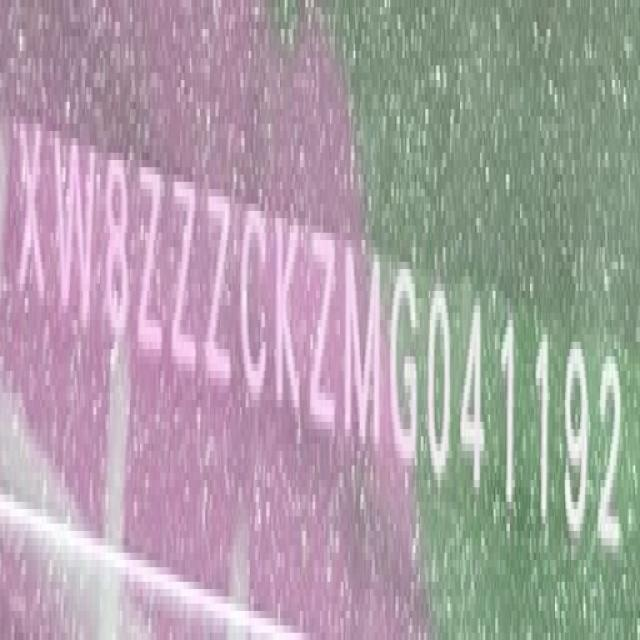0: (426, 274, 454, 486)
1: (501, 301, 518, 526), (534, 320, 550, 536)
2: (598, 350, 624, 554)
4: (458, 284, 485, 505)
8: (106, 148, 130, 349)
9: (563, 341, 591, 544)
C: (241, 194, 270, 404)
G: (389, 261, 422, 485)
K: (276, 207, 304, 424)
M: (343, 234, 383, 459)
W: (52, 127, 96, 330)
X: (17, 108, 44, 315)
Z: (308, 219, 337, 443), (172, 167, 199, 381), (205, 179, 232, 390), (137, 160, 163, 364)
